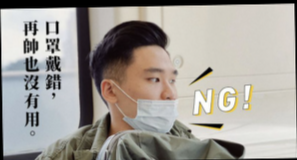mask_weared_incorrect: (121, 65, 179, 133)
